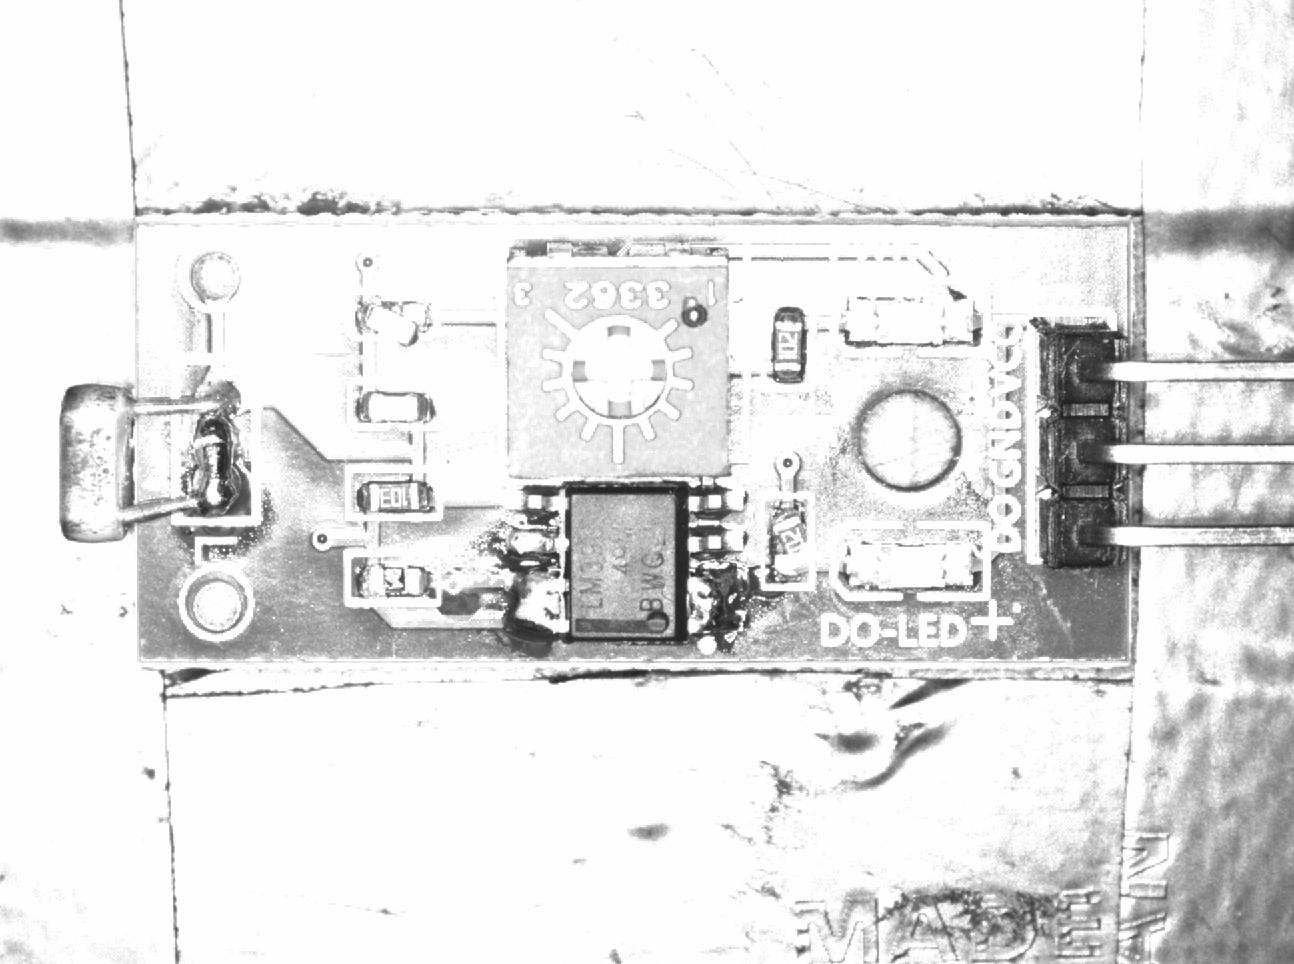bridge: (173, 351, 261, 521), (498, 519, 566, 654), (685, 561, 750, 651)
lifted: (766, 486, 811, 596), (352, 293, 442, 345)
miss: (344, 551, 441, 607)
ok: (343, 377, 441, 430), (341, 466, 439, 518), (757, 300, 815, 388)
